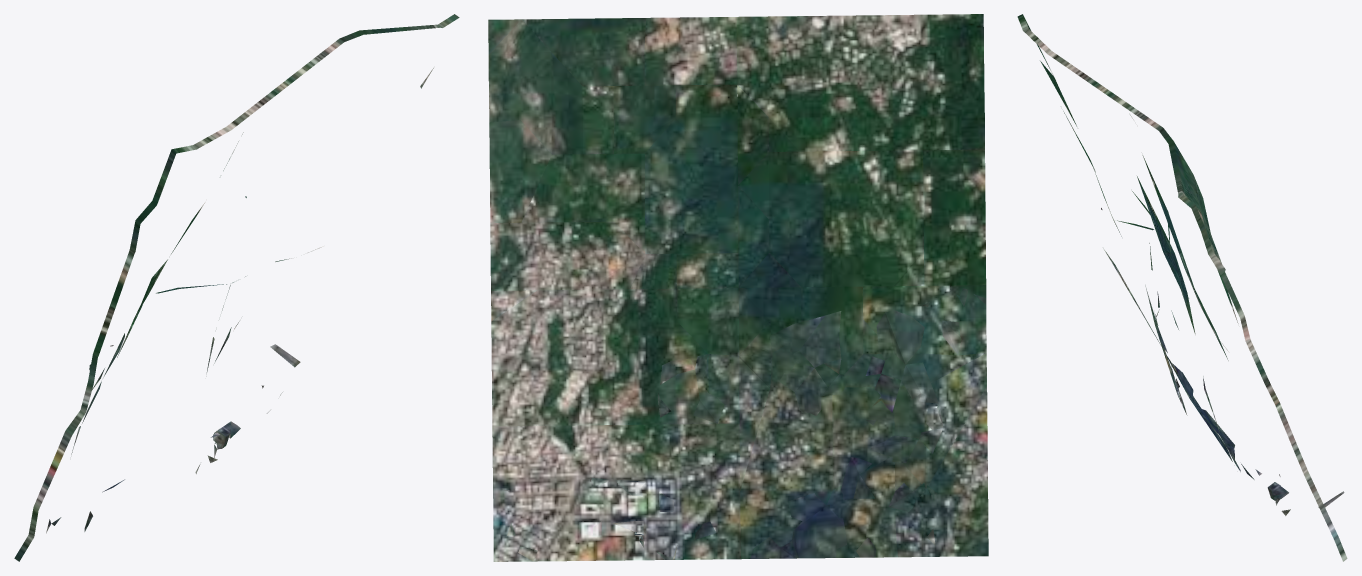
3 views of the same model, side by side, from view 1: azimuth 30°, elevation 25°; view 2: azimuth 150°, elevation 25°; view 3: azimuth 270°, elevation 25° (orthographic). The views are drawn at different scales.
Bounding box in the file's own units: 2501 × 2411 × 1718.
1 material, 1 textured.
